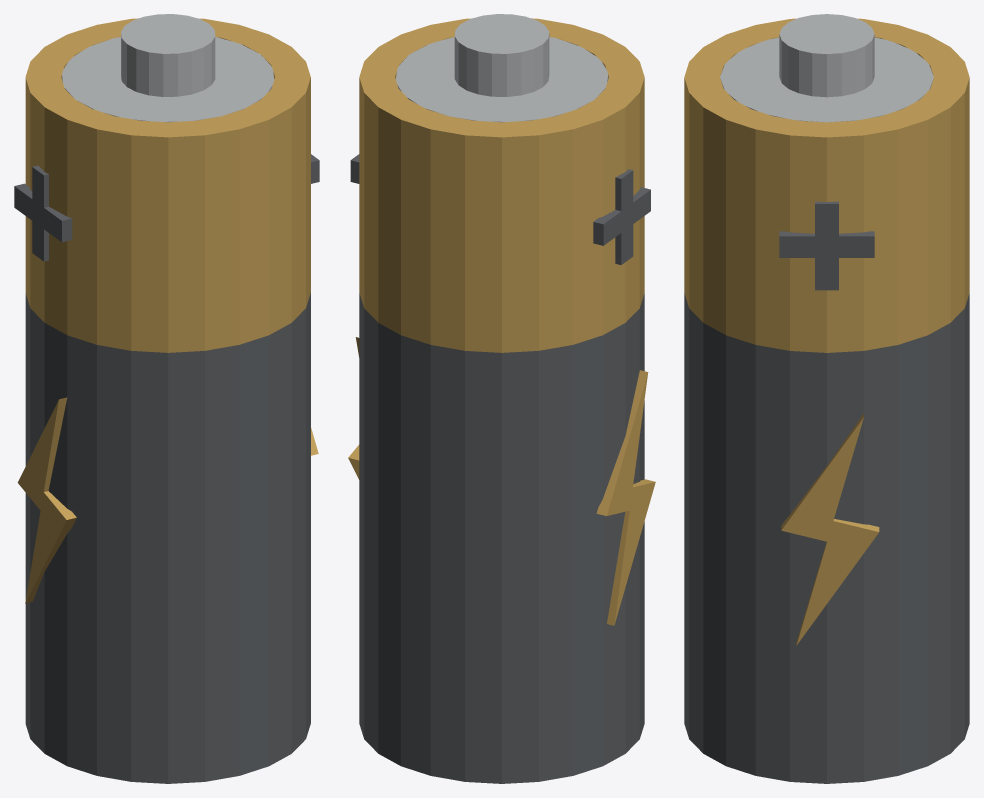
File: battery.glb
The picture shows the model from 3 angles, left to right: view 1: azimuth 30°, elevation 25°; view 2: azimuth 150°, elevation 25°; view 3: azimuth 270°, elevation 25°; orthographic projection.
Visible parts, largest first — view 1: Mesh_Mesh_head_geo.001_lambert2SG.001; view 2: Mesh_Mesh_head_geo.001_lambert2SG.001; view 3: Mesh_Mesh_head_geo.001_lambert2SG.001.
Part boxes in pixels (bbox=[...]): Mesh_Mesh_head_geo.001_lambert2SG.001: bbox=[14, 14, 319, 783]; Mesh_Mesh_head_geo.001_lambert2SG.001: bbox=[348, 14, 655, 783]; Mesh_Mesh_head_geo.001_lambert2SG.001: bbox=[684, 14, 969, 783].
Size of the model in its own units: 6.2 by 16 by 6.
